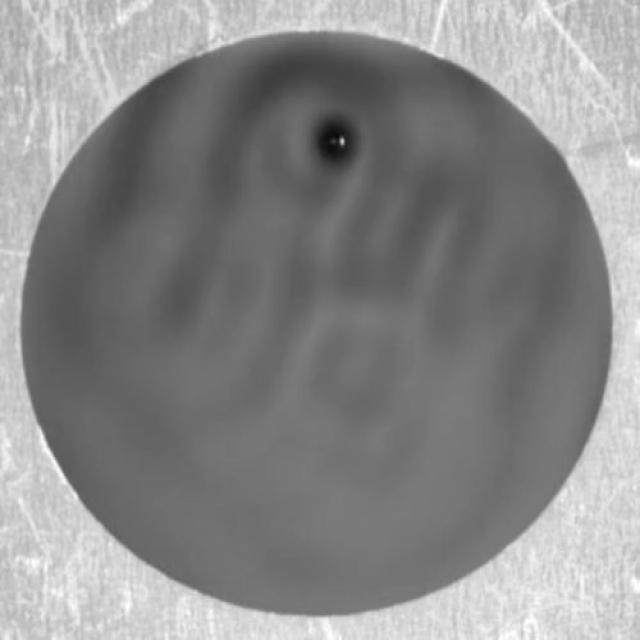droplet: (324, 131, 350, 162)
